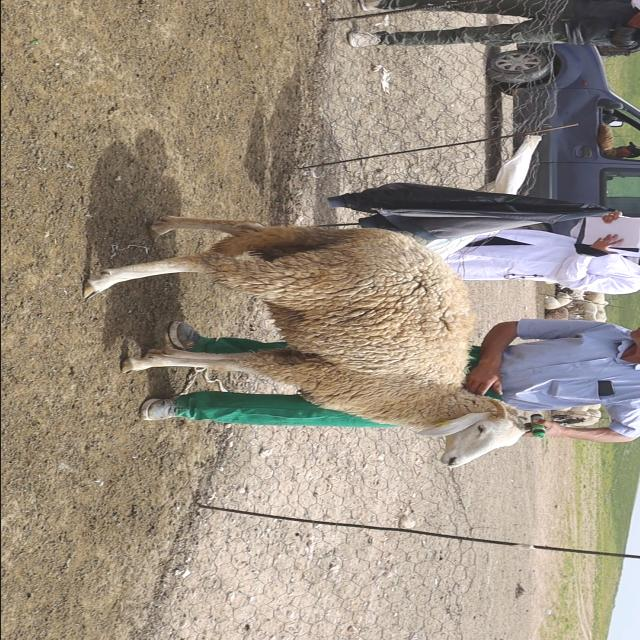Score_2: (83, 216, 525, 467)
